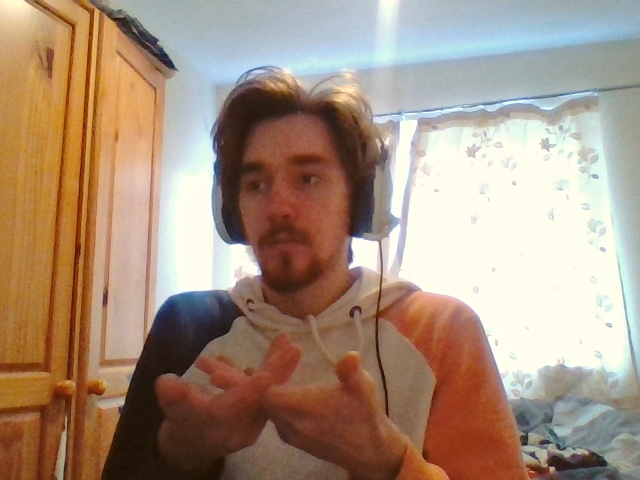how: (155, 333, 377, 457)
